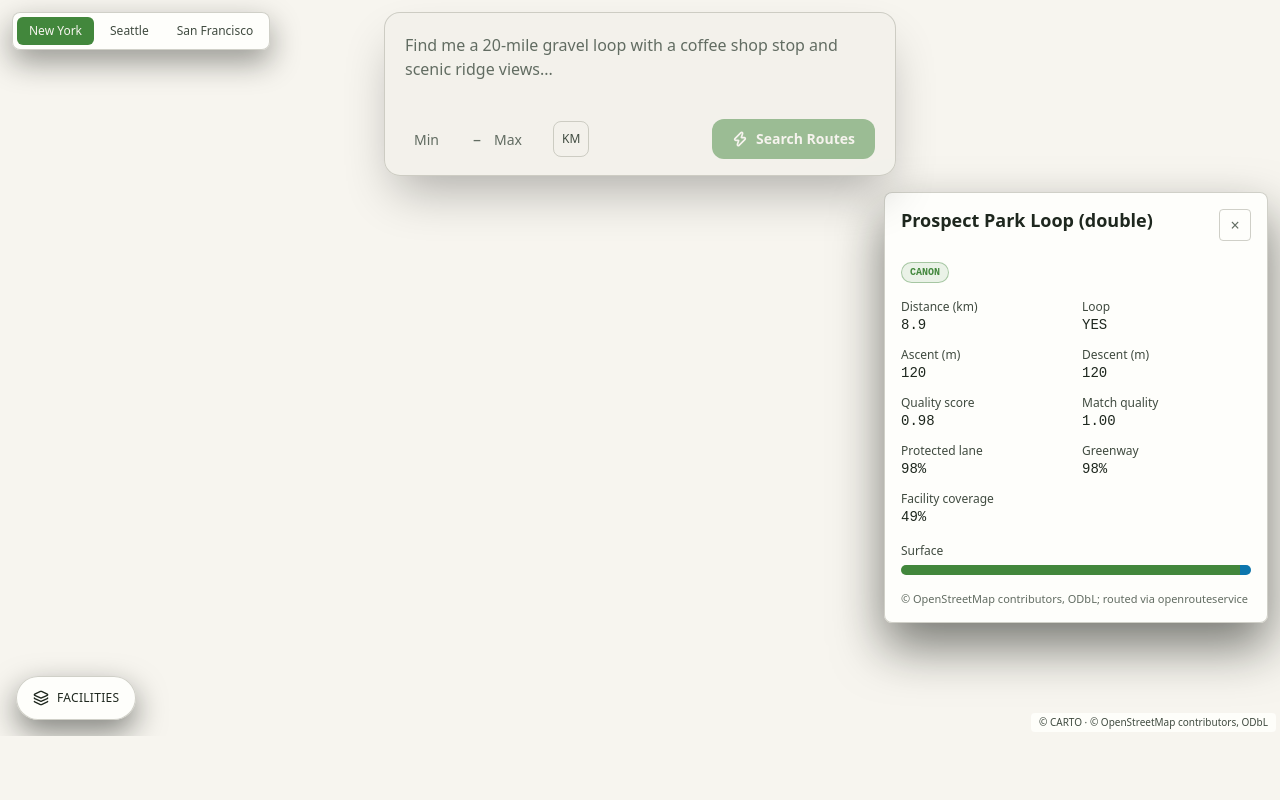
Test: MapExplorer — mobile layout › selecting a card expands the dock into the route detail
This screenshot has width=1280, height=800.
Step 1. Replace the text in the text box with "aqueduct" → [640, 65], box [389,17,891,113]
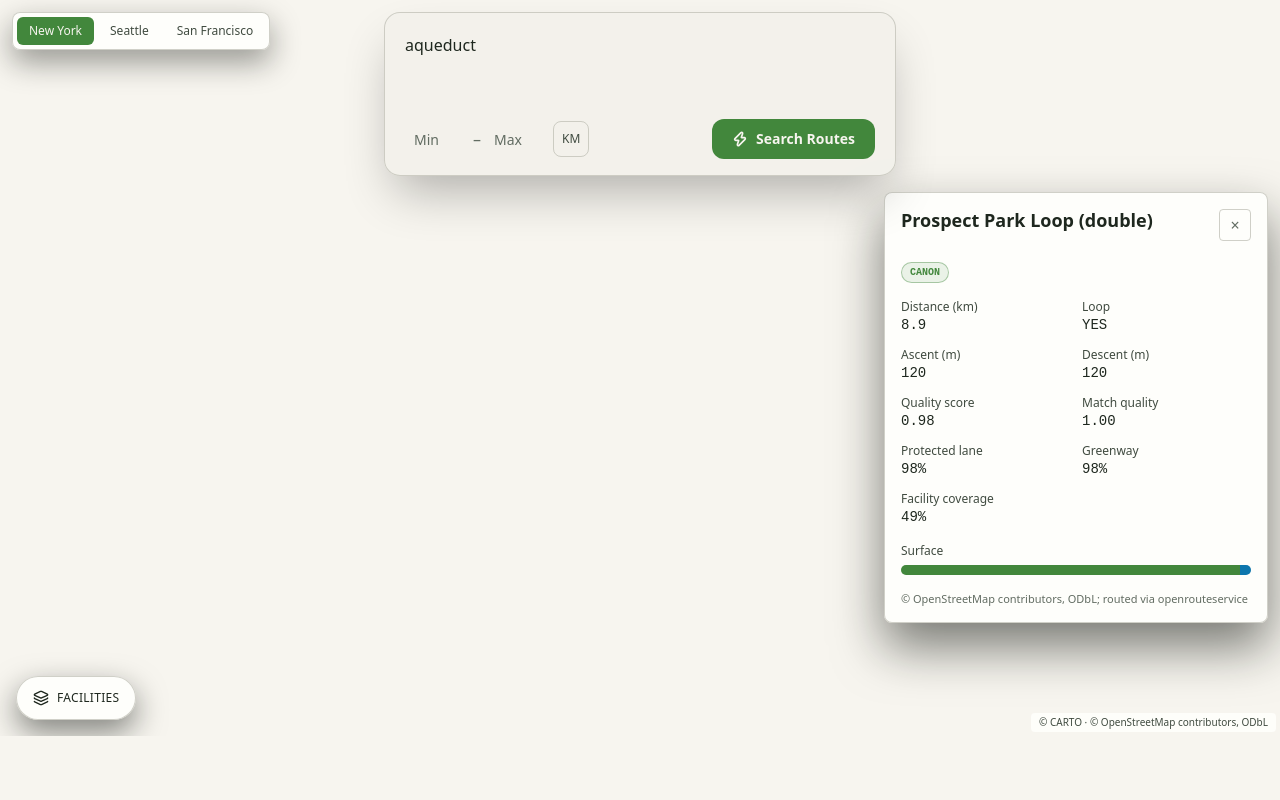
Step 2. Click the button "Search Routes" → [794, 139], box [712,119,875,159]
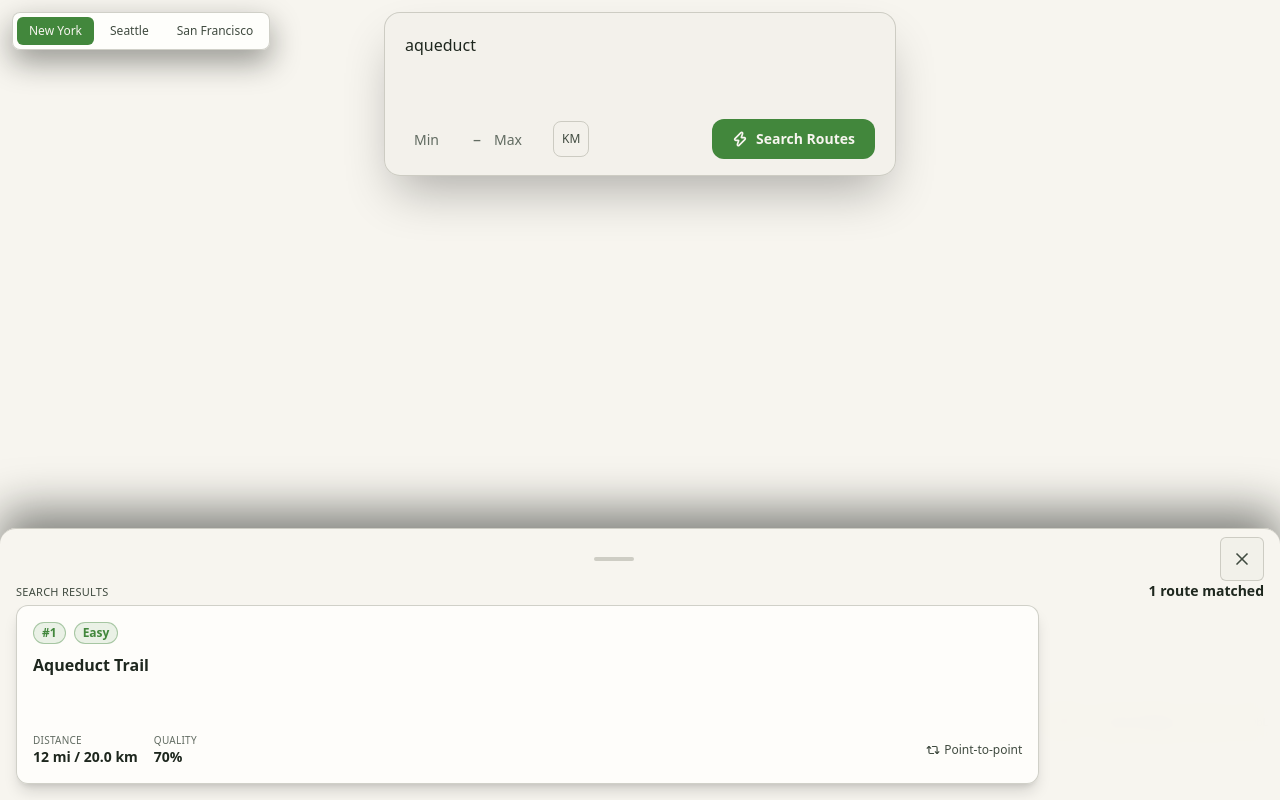
Step 3. Click the button with aria-label "focus aqueduct trail" → [528, 694], box [16,605,1039,784]
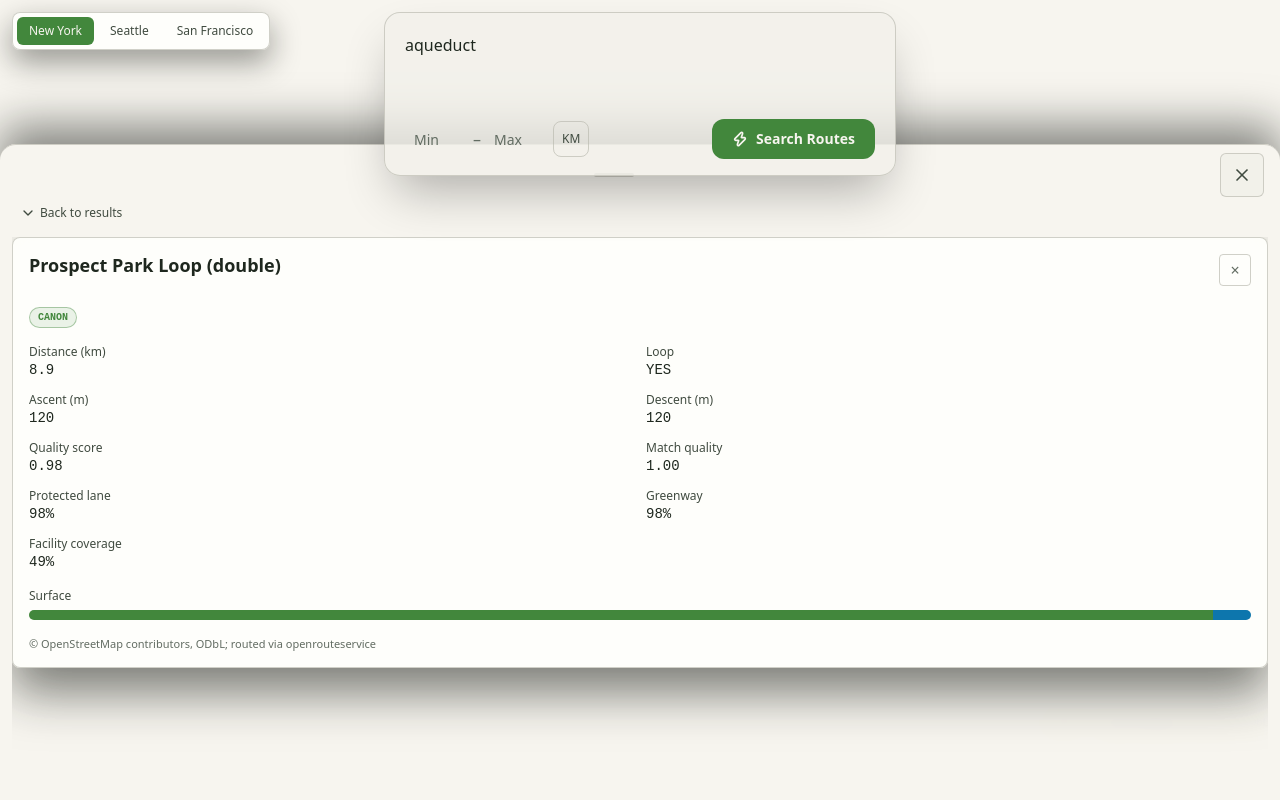
Now the button "Back to results" is shown, box [12,197,130,229]
Now the heading "Prospect Park Loop (double)" is shown, box [29,254,281,276]
